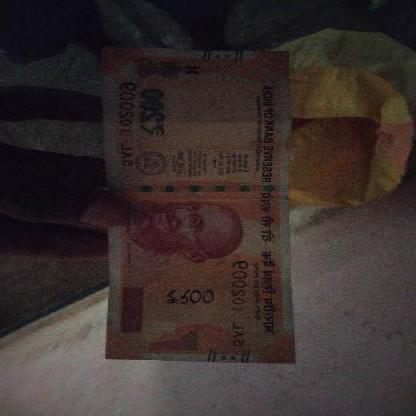New200Front: (103, 54, 290, 362)
